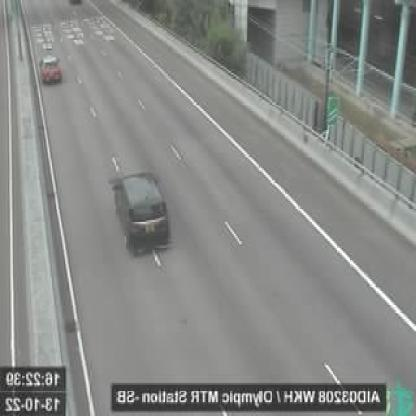Car: (113, 174, 171, 254), (39, 55, 63, 85)
